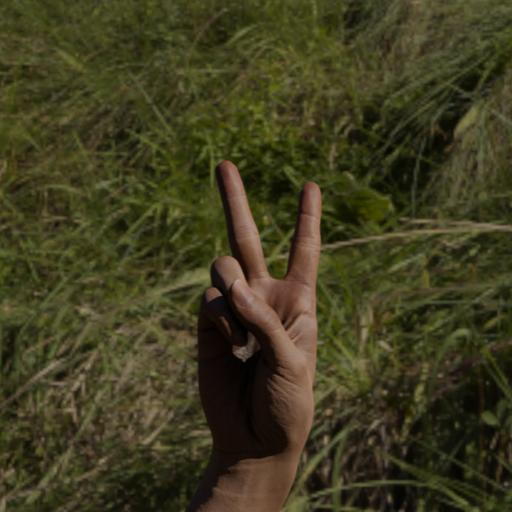V: (176, 147, 336, 501)
